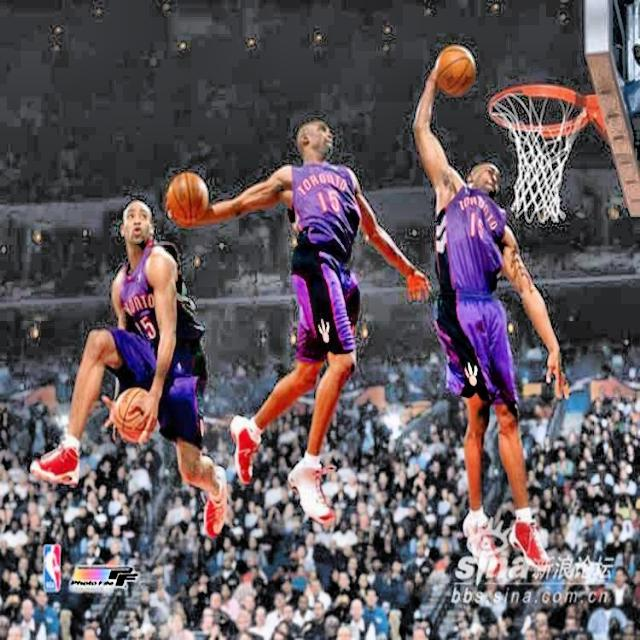board: (167, 172, 209, 228), (438, 45, 476, 94)
rim: (488, 86, 592, 222)
